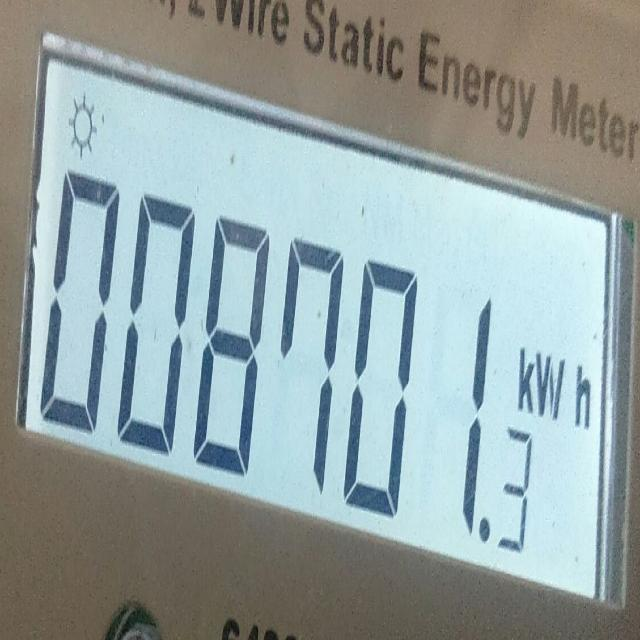display: (25, 53, 610, 603)
frame: (35, 155, 542, 586)
